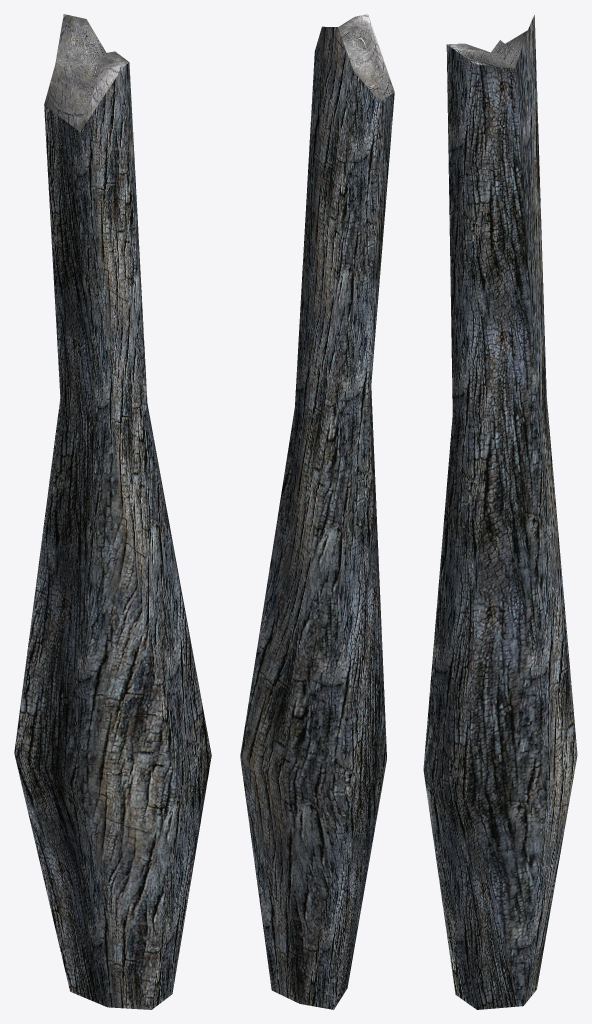
Rendered from decd_scorched_tallbirch_broke_l0.fbx.
The picture shows the model from 3 angles, left to right: view 1: azimuth 30°, elevation 25°; view 2: azimuth 150°, elevation 25°; view 3: azimuth 270°, elevation 25°; orthographic projection. The views are drawn at different scales.
Parts seen in each view (by area): view 1: mesh_node; view 2: mesh_node; view 3: mesh_node.
Boxes of the visible parts, <box> form: mesh_node: <box>14,14,211,1009</box>; mesh_node: <box>240,14,394,1009</box>; mesh_node: <box>423,15,577,1009</box>.
Size of the model in its own units: 3.01 by 19.27 by 2.81.
2 materials, 2 textured.
